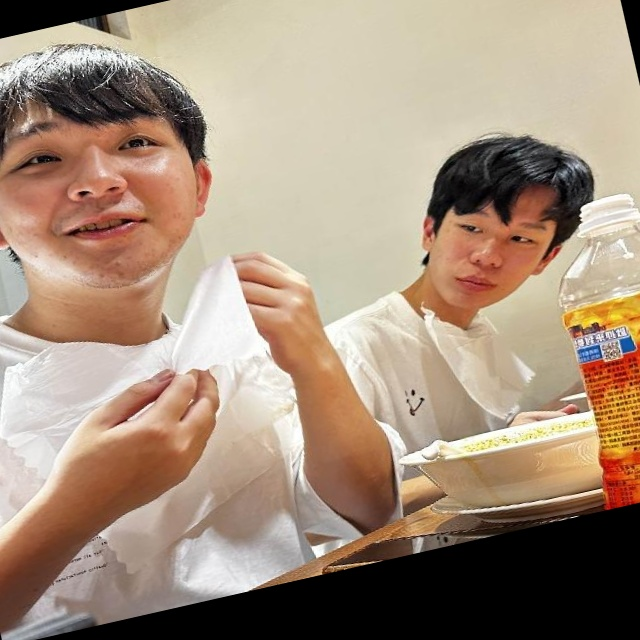Sin_Casco_Mascarrilla: (0, 19, 240, 322), (401, 114, 616, 318)
